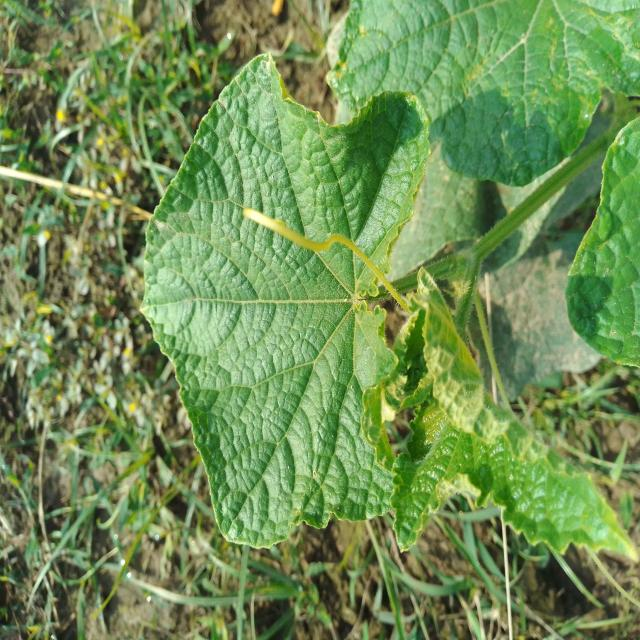cucumber_healthy: (135, 41, 434, 556), (399, 267, 640, 593), (319, 0, 640, 186), (561, 108, 640, 375)
